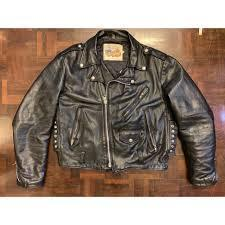jacket: (12, 31, 215, 189)
